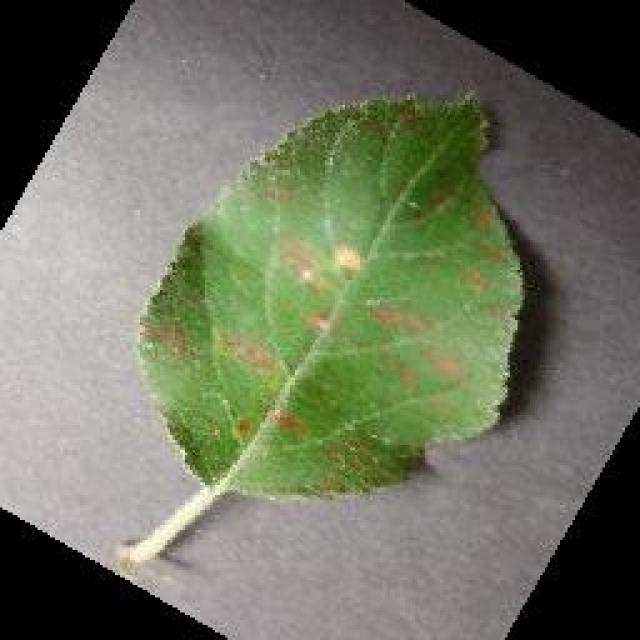apple cedar apple rust: (132, 88, 528, 508)
